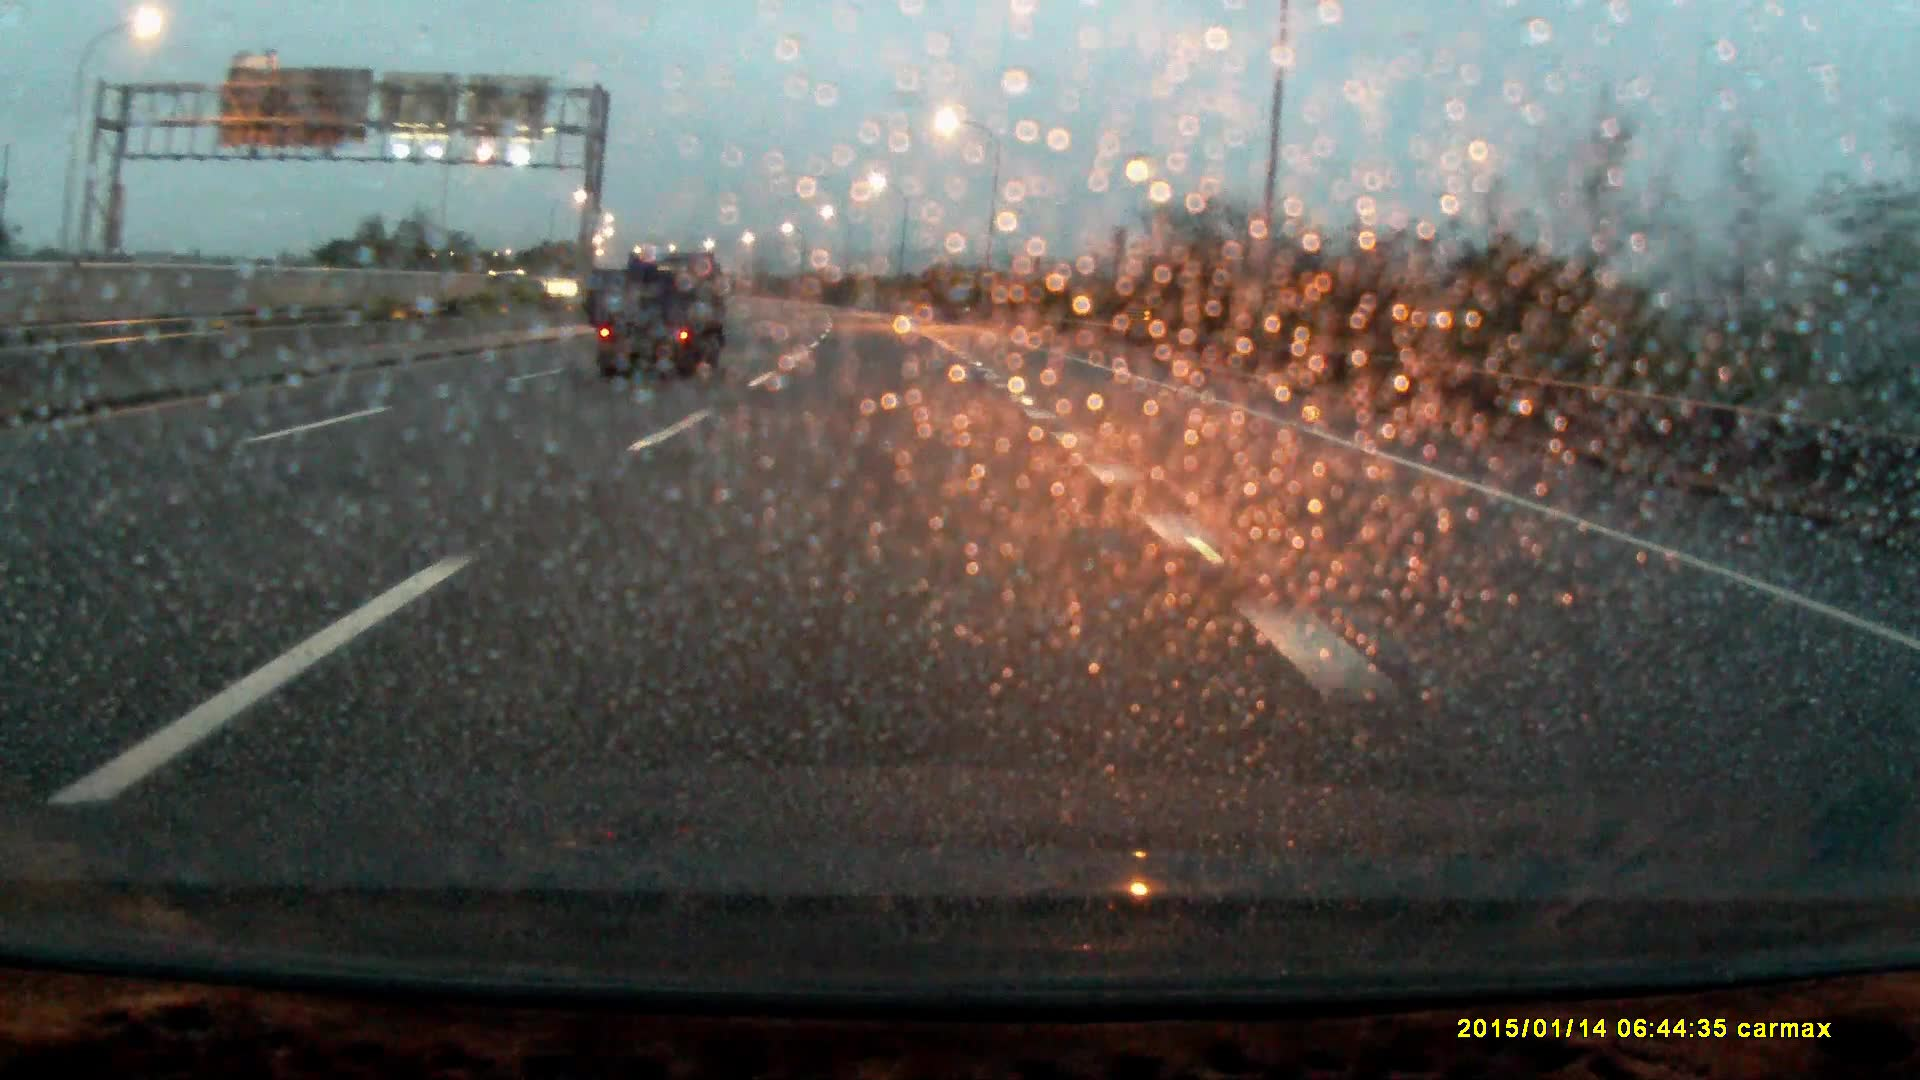vehicle: (593, 255, 731, 378), (487, 272, 568, 309)
